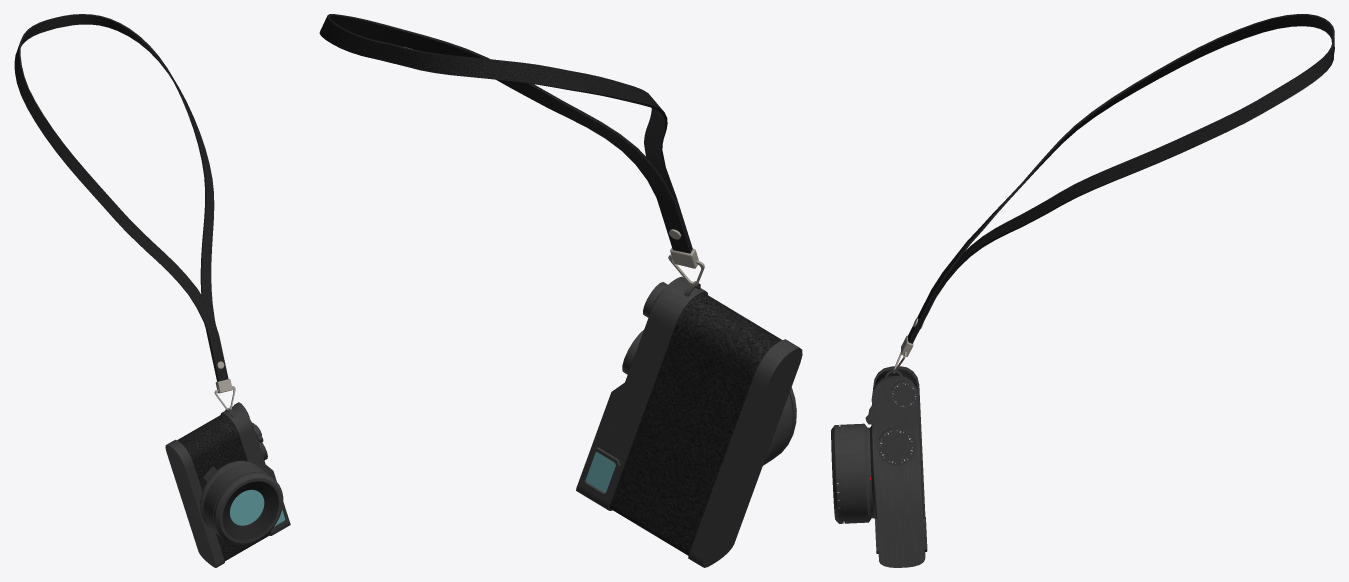
File: camera.glb
3 renders of one model, left to right at view 1: azimuth 30°, elevation 25°; view 2: azimuth 150°, elevation 25°; view 3: azimuth 270°, elevation 25°, orthographic. The views are drawn at different scales.
Parts seen in each view (by area): view 1: CameraStrap; view 2: CameraStrap; view 3: CameraStrap.
Boxes of the visible parts, box(x1,y1,x2,y2) form: CameraStrap: box(14, 14, 290, 567); CameraStrap: box(319, 14, 802, 567); CameraStrap: box(831, 14, 1334, 567).
Size of the model in its own units: 0.1255 by 0.3488 by 0.3011.
3 materials, 2 textured.
